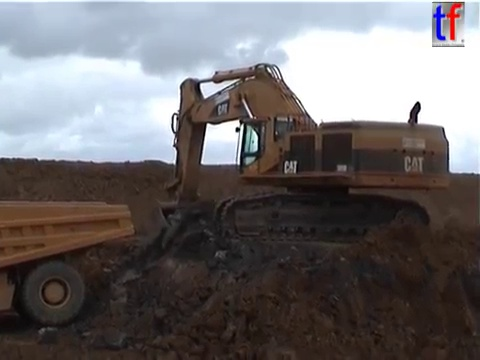excavator: (141, 60, 452, 253)
truck: (1, 198, 137, 327)
